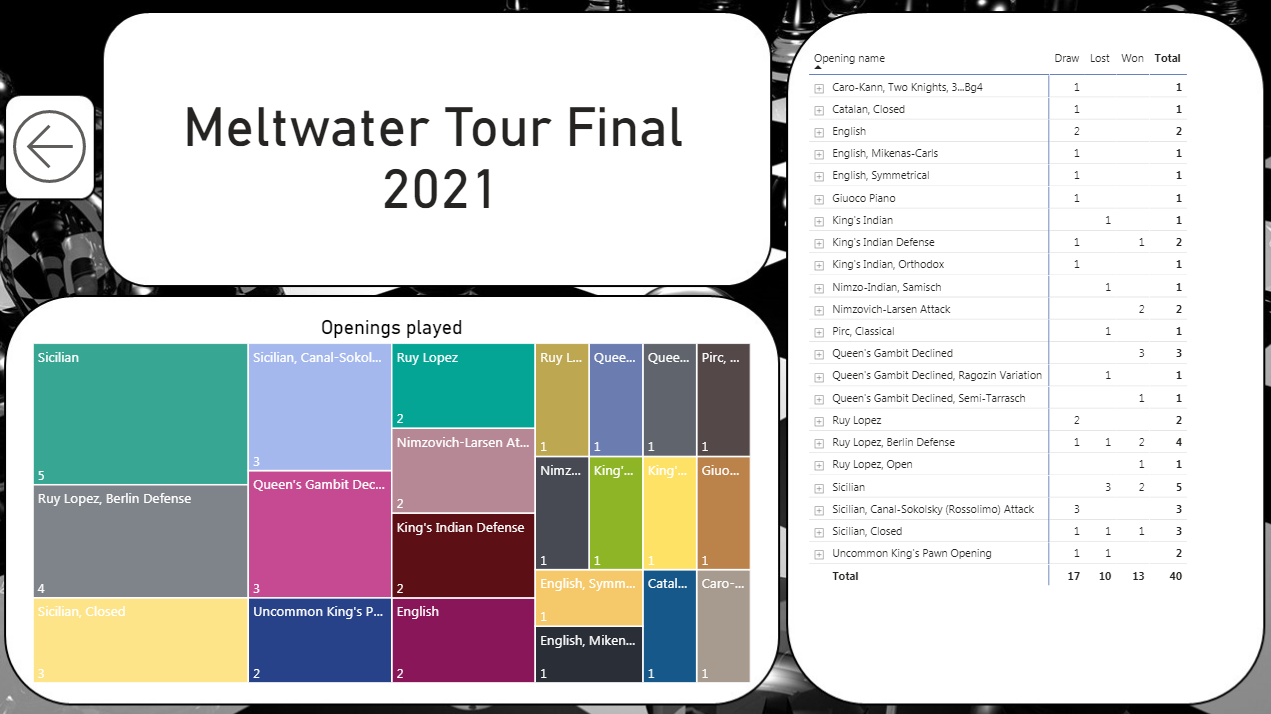

The page's visual inventory and layout, read from the dashboard file:
{"tool":"powerbi","page":{"name":"Event Dashboard","canvas":[1280,720],"ordinal":1},"visuals":[{"type":"image","box":[0,0,1280,720],"z":0},{"type":"actionButton","box":[16,104,90,96],"z":1},{"type":"card","fields":{"Values":["Min(Games.event)"]},"box":[136,32,624,248],"z":2},{"type":"pivotTable","fields":{"Rows":["Openings.eco_name","Openings.eco_example"],"Values":["CountNonNull(Games.date_played)"],"Columns":["Games.result"]},"box":[808,48,432,616],"z":3},{"type":"treemap","title":"Openings played","fields":{"Values":["CountNonNull(Games.date_played)"],"Group":["Openings.eco_name"]},"box":[40,320,720,368],"z":4}]}

Visuals, with their boxes in screenshot pixels (x1, y1, x2, y2), scaled from the page's 1280x720 canvas onto the 1271x714 screenshot:
image: select_region(0, 0, 1270, 713)
actionButton: select_region(16, 103, 105, 198)
card - Min(Games.event): select_region(135, 32, 755, 278)
pivotTable - Openings.eco_name x Openings.eco_example: select_region(802, 48, 1231, 658)
"Openings played" treemap: select_region(40, 317, 755, 682)
